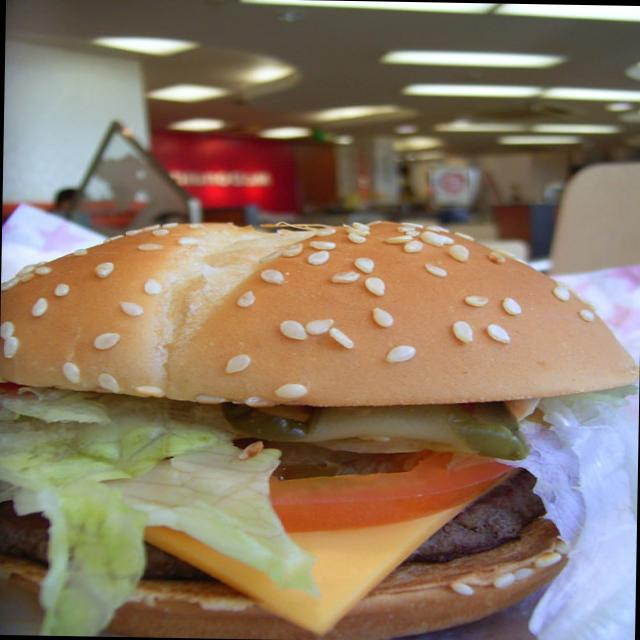Rice: (0, 175, 640, 640)
